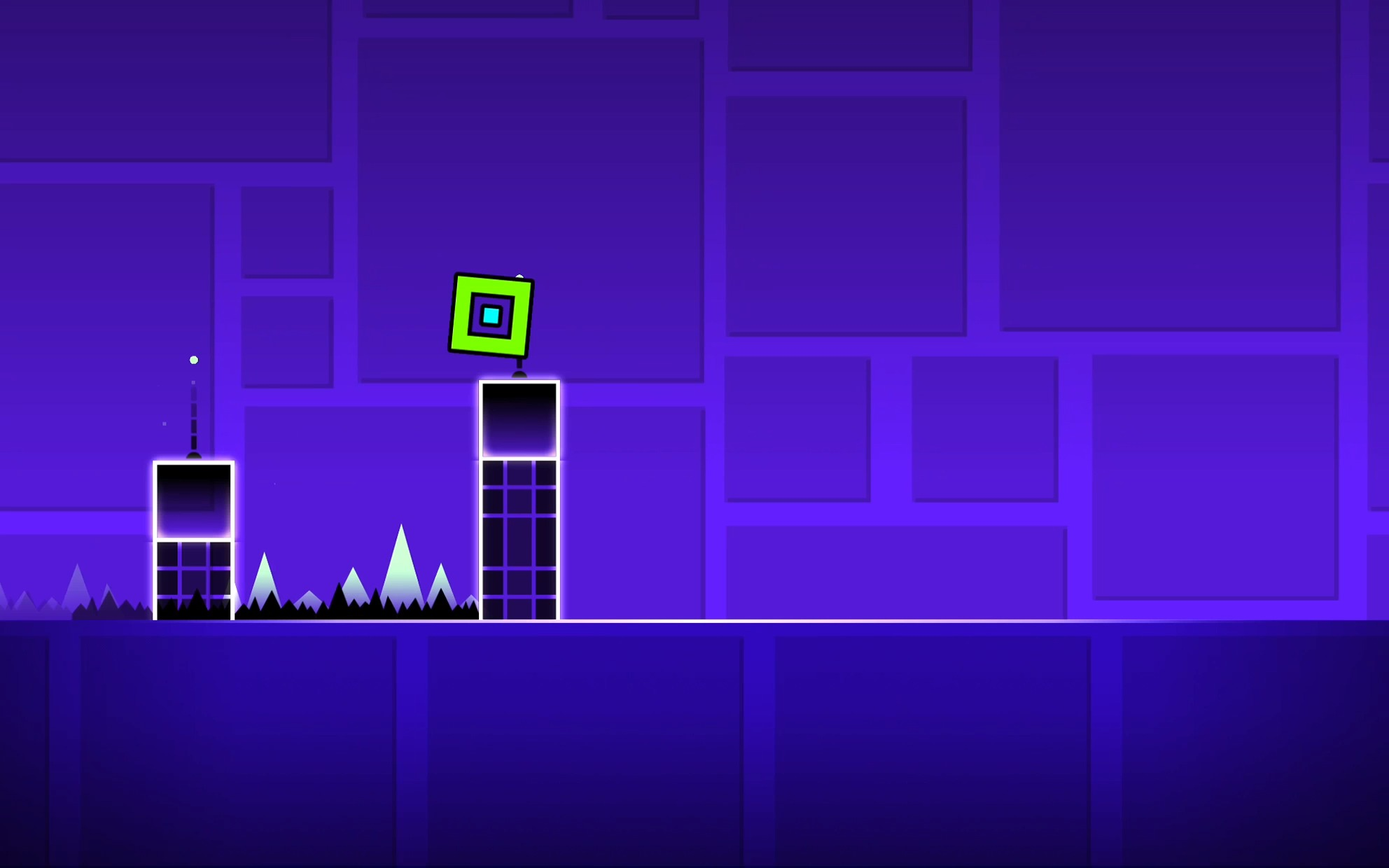Block: (154, 461, 234, 539), (481, 379, 559, 458)
Block2: (483, 460, 557, 620), (155, 541, 234, 620)
Player: (449, 272, 533, 354)
Spike3: (239, 593, 479, 622), (73, 592, 149, 619)
